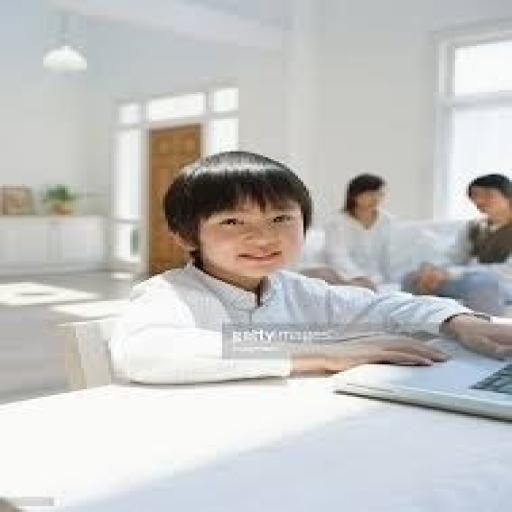using_laptop: (310, 240, 512, 474)
